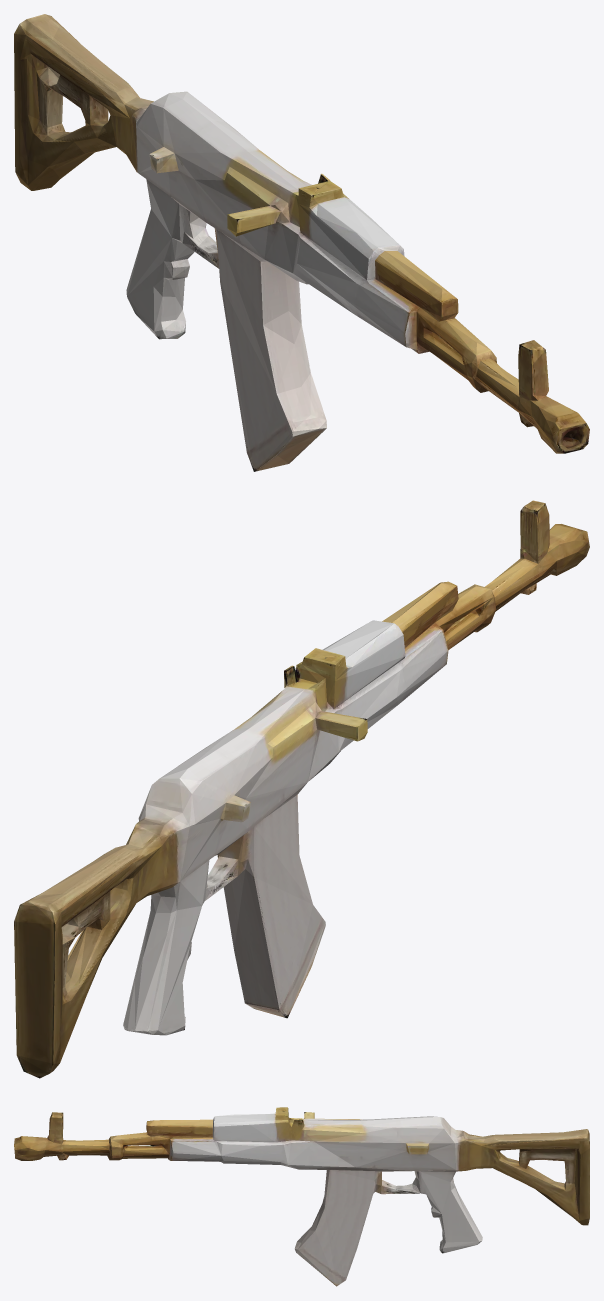
File: white_aks74u.glb
3 views of the same model, one above another, from view 1: azimuth 30°, elevation 25°; view 2: azimuth 150°, elevation 25°; view 3: azimuth 270°, elevation 25° (orthographic). The views are drawn at different scales.
Visible parts, largest first — view 1: geometry_0; view 2: geometry_0; view 3: geometry_0.
Boxes of the visible parts, box(x1,y1,x2,y2) form: geometry_0: box(14, 14, 589, 471); geometry_0: box(14, 500, 589, 1078); geometry_0: box(14, 1107, 589, 1286).
Bounding box in the file's own units: 0.1072 × 0.3241 × 0.9926.
1 material, 1 textured.
